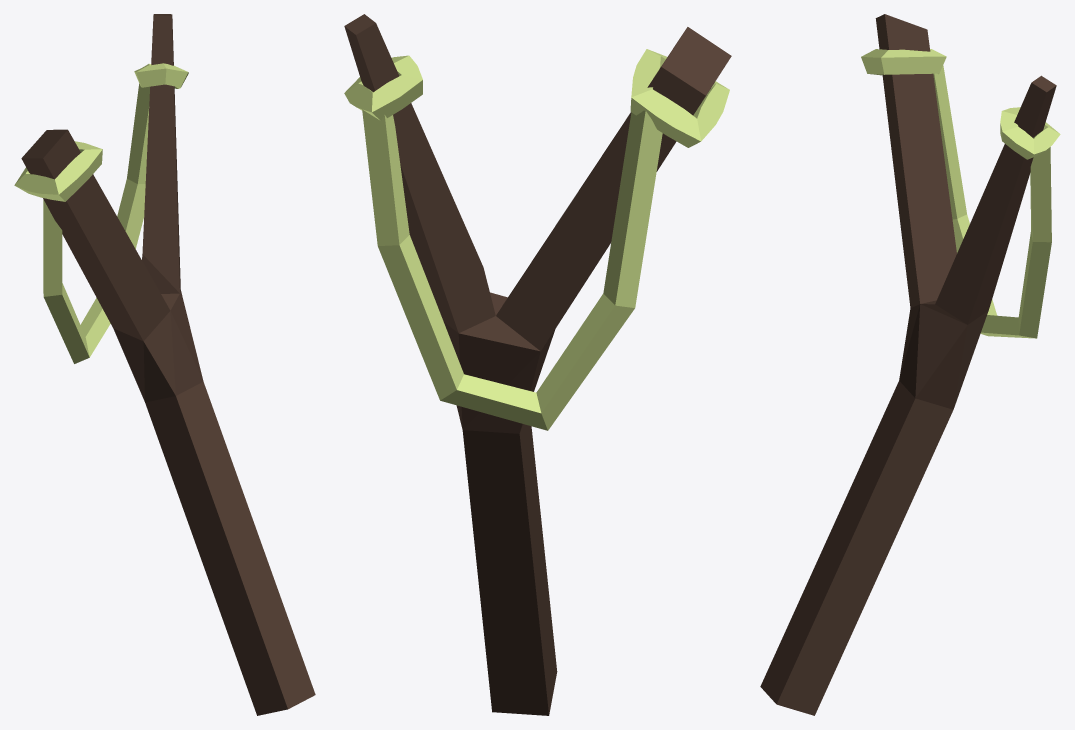
File: sling.fbx
3 views of the same model, side by side, from view 1: azimuth 30°, elevation 25°; view 2: azimuth 150°, elevation 25°; view 3: azimuth 270°, elevation 25° (orthographic). The views are drawn at different scales.
Parts seen in each view (by area): view 1: sling; view 2: sling; view 3: sling.
Part boxes in pixels (box(x1,y1,x2,y2)): sling: box(14, 14, 315, 715); sling: box(344, 14, 731, 715); sling: box(760, 14, 1060, 715).
Size of the model in its own units: 8.48 by 21.77 by 9.41.
